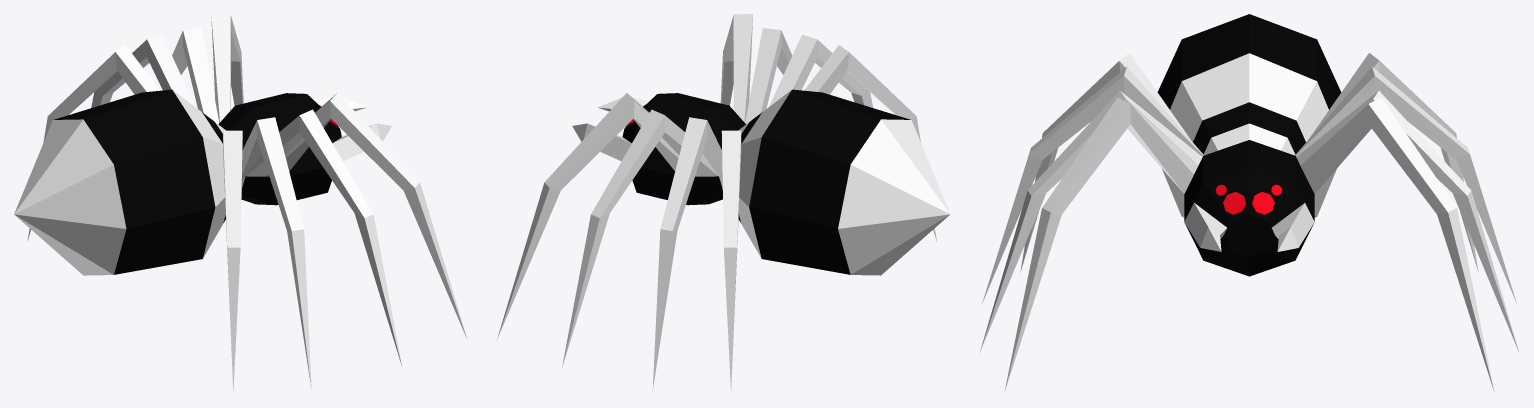
File: slow_spider.fbx
The picture shows the model from 3 angles, left to right: view 1: azimuth 30°, elevation 25°; view 2: azimuth 150°, elevation 25°; view 3: azimuth 270°, elevation 25°; orthographic projection. The views are drawn at different scales.
Visible parts, largest first — view 1: Plane.003; view 2: Plane.003; view 3: Plane.003, Circle.
Part boxes in pixels (box(x1,y1,x2,y2)): Plane.003: box(14, 14, 467, 391); Plane.003: box(497, 14, 950, 391); Plane.003: box(980, 14, 1518, 392); Circle: box(1223, 192, 1274, 214).
Size of the model in its own units: 490 by 291 by 564.
Materials: 2 (1 with a texture image).
